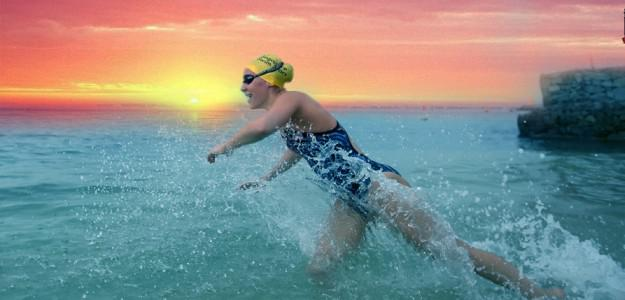swimmer: (207, 51, 560, 299)
